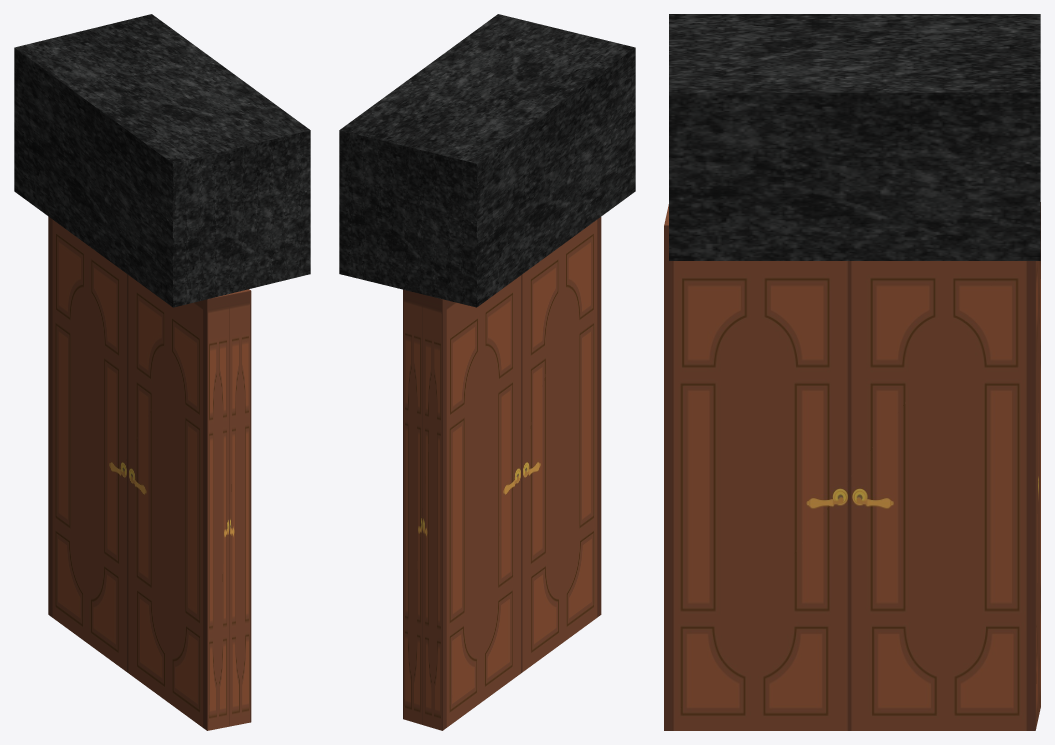
Rendered from TOO - Door Piece.fbx.
The picture shows the model from 3 angles, left to right: view 1: azimuth 30°, elevation 25°; view 2: azimuth 150°, elevation 25°; view 3: azimuth 270°, elevation 25°; orthographic projection. The views are drawn at different scales.
Visible parts, largest first — view 1: Box002, Box003; view 2: Box002, Box003; view 3: Box002, Box003.
Part boxes in pixels (x1=…): Box002: x1=48, y1=216, x2=251, y2=730; Box003: x1=14, y1=14, x2=310, y2=307; Box002: x1=403, y1=217, x2=601, y2=730; Box003: x1=339, y1=14, x2=635, y2=307; Box002: x1=664, y1=202, x2=1040, y2=730; Box003: x1=669, y1=14, x2=1040, y2=260.
Bounding box in the file's own units: 39.37 × 157 × 79.85.
Materials: 2 (2 with a texture image).
